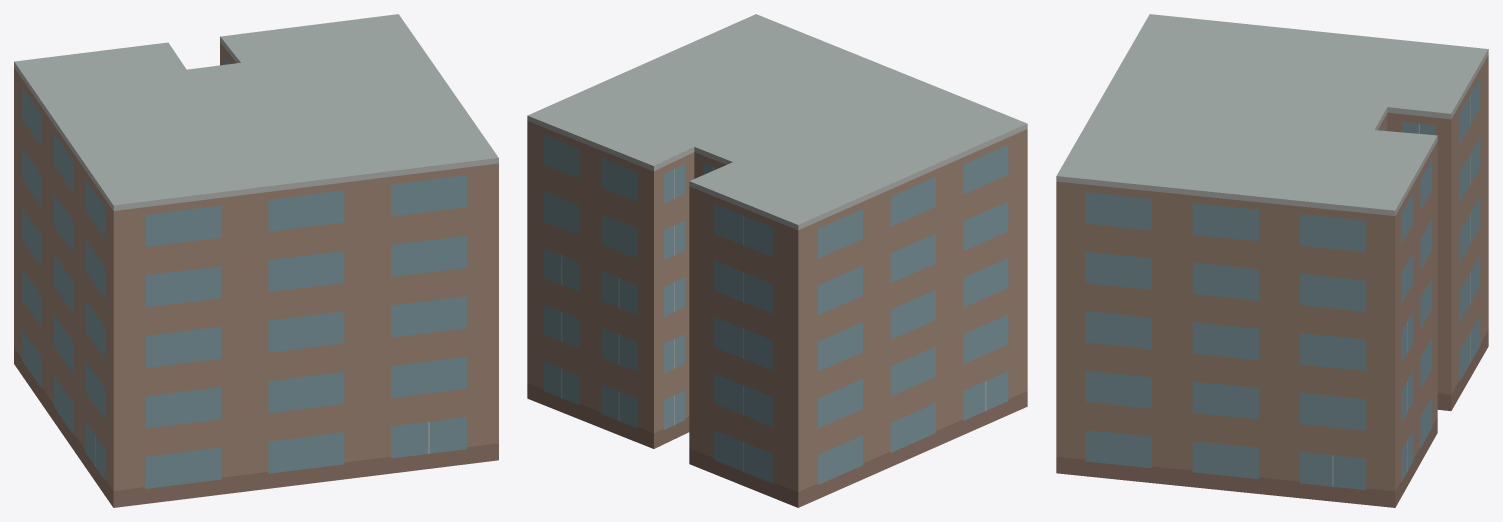
The model's file is survey-upis-32959969.glb.
3 renders of one model, left to right at view 1: azimuth 30°, elevation 25°; view 2: azimuth 150°, elevation 25°; view 3: azimuth 270°, elevation 25°, orthographic. The views are drawn at different scales.
Visible parts, largest first — view 1: survey-upis-32959969.tmp; view 2: survey-upis-32959969.tmp; view 3: survey-upis-32959969.tmp.
Boxes of the visible parts, x1,y1,x2,y2 form: survey-upis-32959969.tmp: (14, 14, 498, 507); survey-upis-32959969.tmp: (527, 14, 1027, 507); survey-upis-32959969.tmp: (1056, 14, 1488, 507).
Size of the model in its own units: 18.74 by 13.2 by 17.41.
